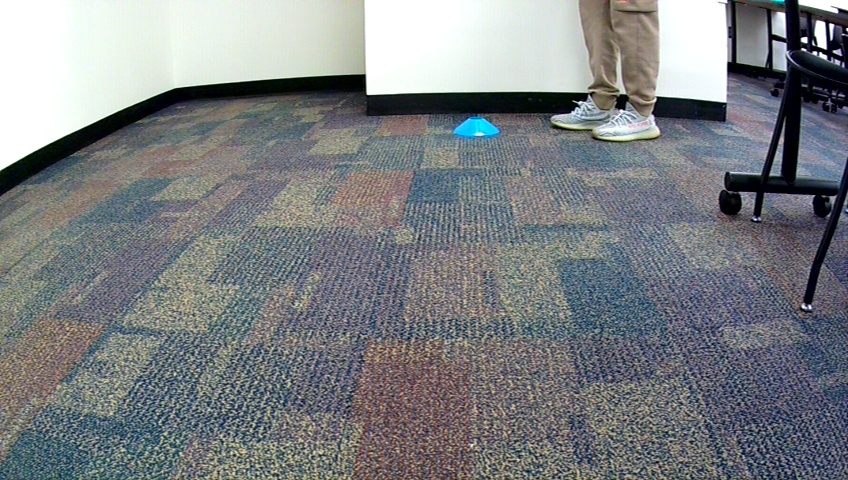cone: (454, 112, 501, 138)
